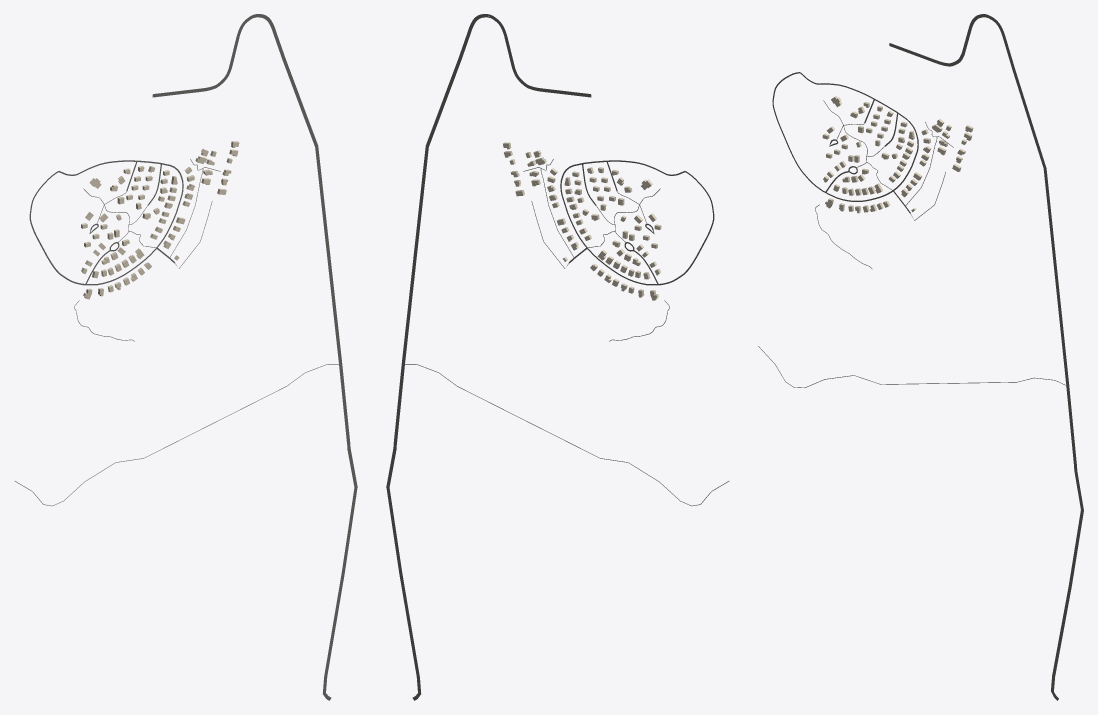
File: historic-palestine-11_34_3533_3288.glb
3 views of the same model, side by side, from view 1: azimuth 30°, elevation 25°; view 2: azimuth 150°, elevation 25°; view 3: azimuth 330°, elevation 25° (orthographic). The views are drawn at different scales.
Parts seen in each view (by area): view 1: Road 8040, Road .003; view 2: Road 8040, Road .003; view 3: Road 8040, Road .003.
Boxes of the visible parts, x1,y1,x2,y2 form: Road 8040: (152, 14, 357, 700); Road .003: (29, 160, 183, 285); Road 8040: (386, 14, 591, 700); Road .003: (560, 160, 714, 285); Road 8040: (889, 14, 1083, 700); Road .003: (772, 72, 918, 201).
Size of the model in its own units: 853 by 1674 by 8.7.
